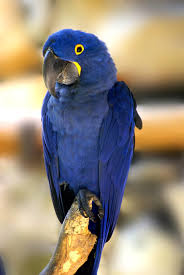guacamaya: (35, 27, 140, 242)
